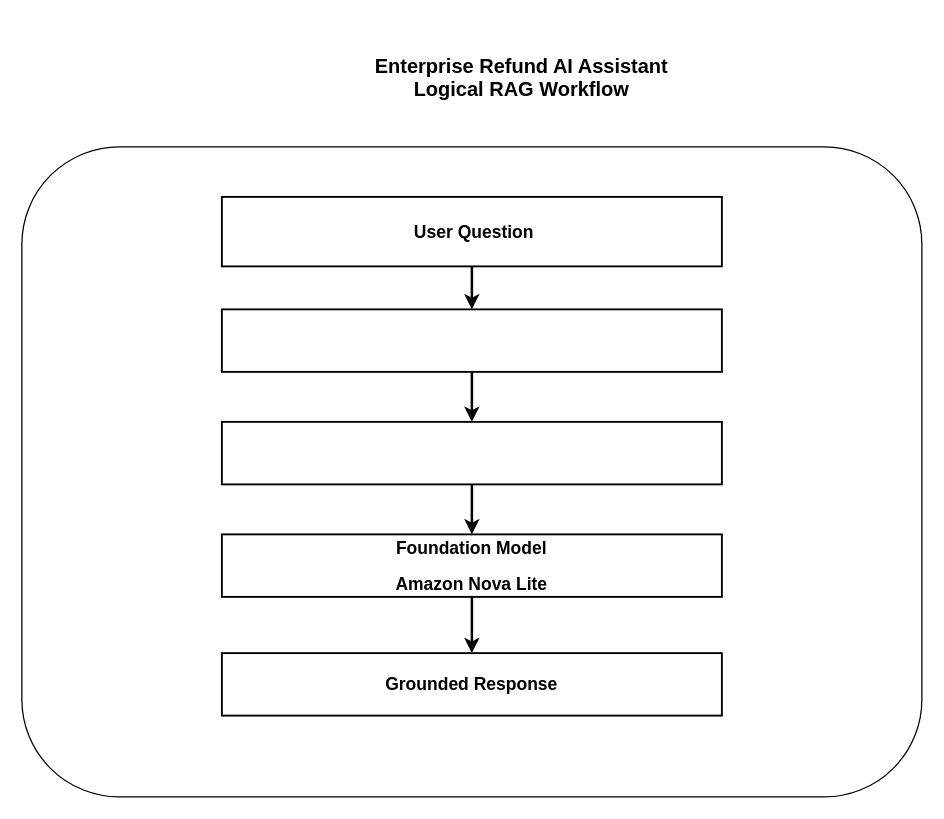
This 944x819 diagram has some shape labels left out. Here are the shapes that lost their labels. From the top down, the centre of each, then its label:
the point at 471,340: Retrieve Relevant Context (Vector Search)
the point at 471,452: Augment Prompt with Retrieved Context
